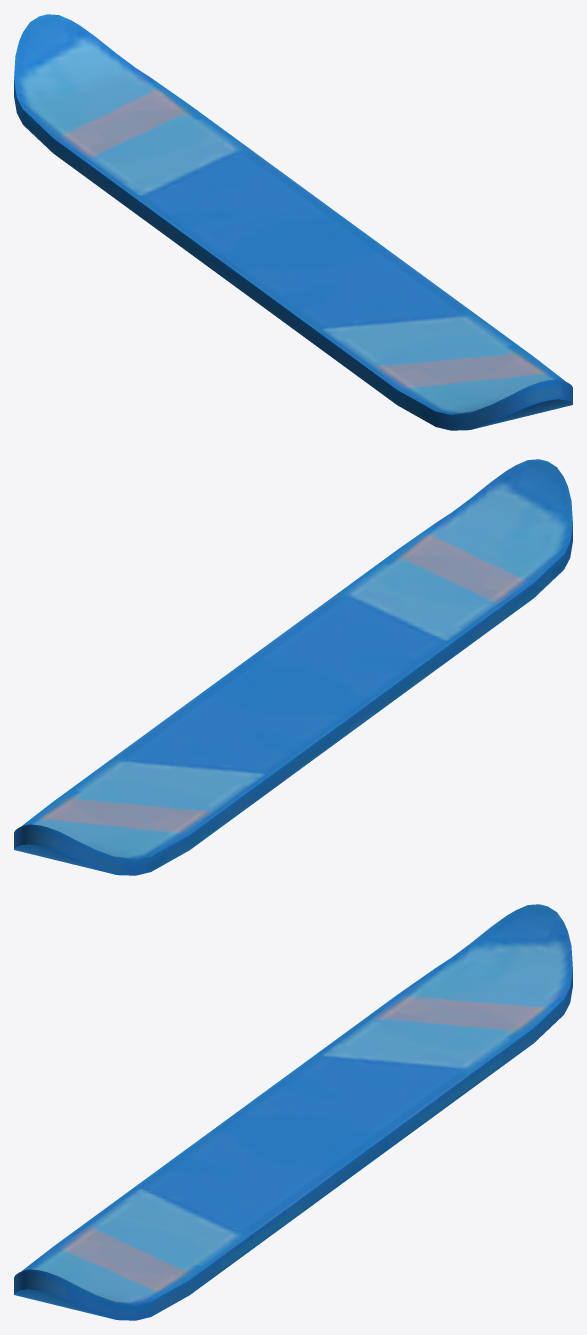
The model's file is pref_sm_beach_winter_hxb02_lv3.fbx.
3 renders of one model, top to bottom at view 1: azimuth 30°, elevation 25°; view 2: azimuth 150°, elevation 25°; view 3: azimuth 330°, elevation 25°, orthographic.
Parts seen in each view (by area): view 1: pref_sm_beach_winter_hxb02_lv3; view 2: pref_sm_beach_winter_hxb02_lv3; view 3: pref_sm_beach_winter_hxb02_lv3.
Part boxes in pixels (x1,y1,x2,y2): pref_sm_beach_winter_hxb02_lv3: [14, 14, 572, 430]; pref_sm_beach_winter_hxb02_lv3: [14, 459, 572, 875]; pref_sm_beach_winter_hxb02_lv3: [14, 904, 572, 1320].
Bounding box in the file's own units: 0.4085 × 0.1842 × 2.61.
